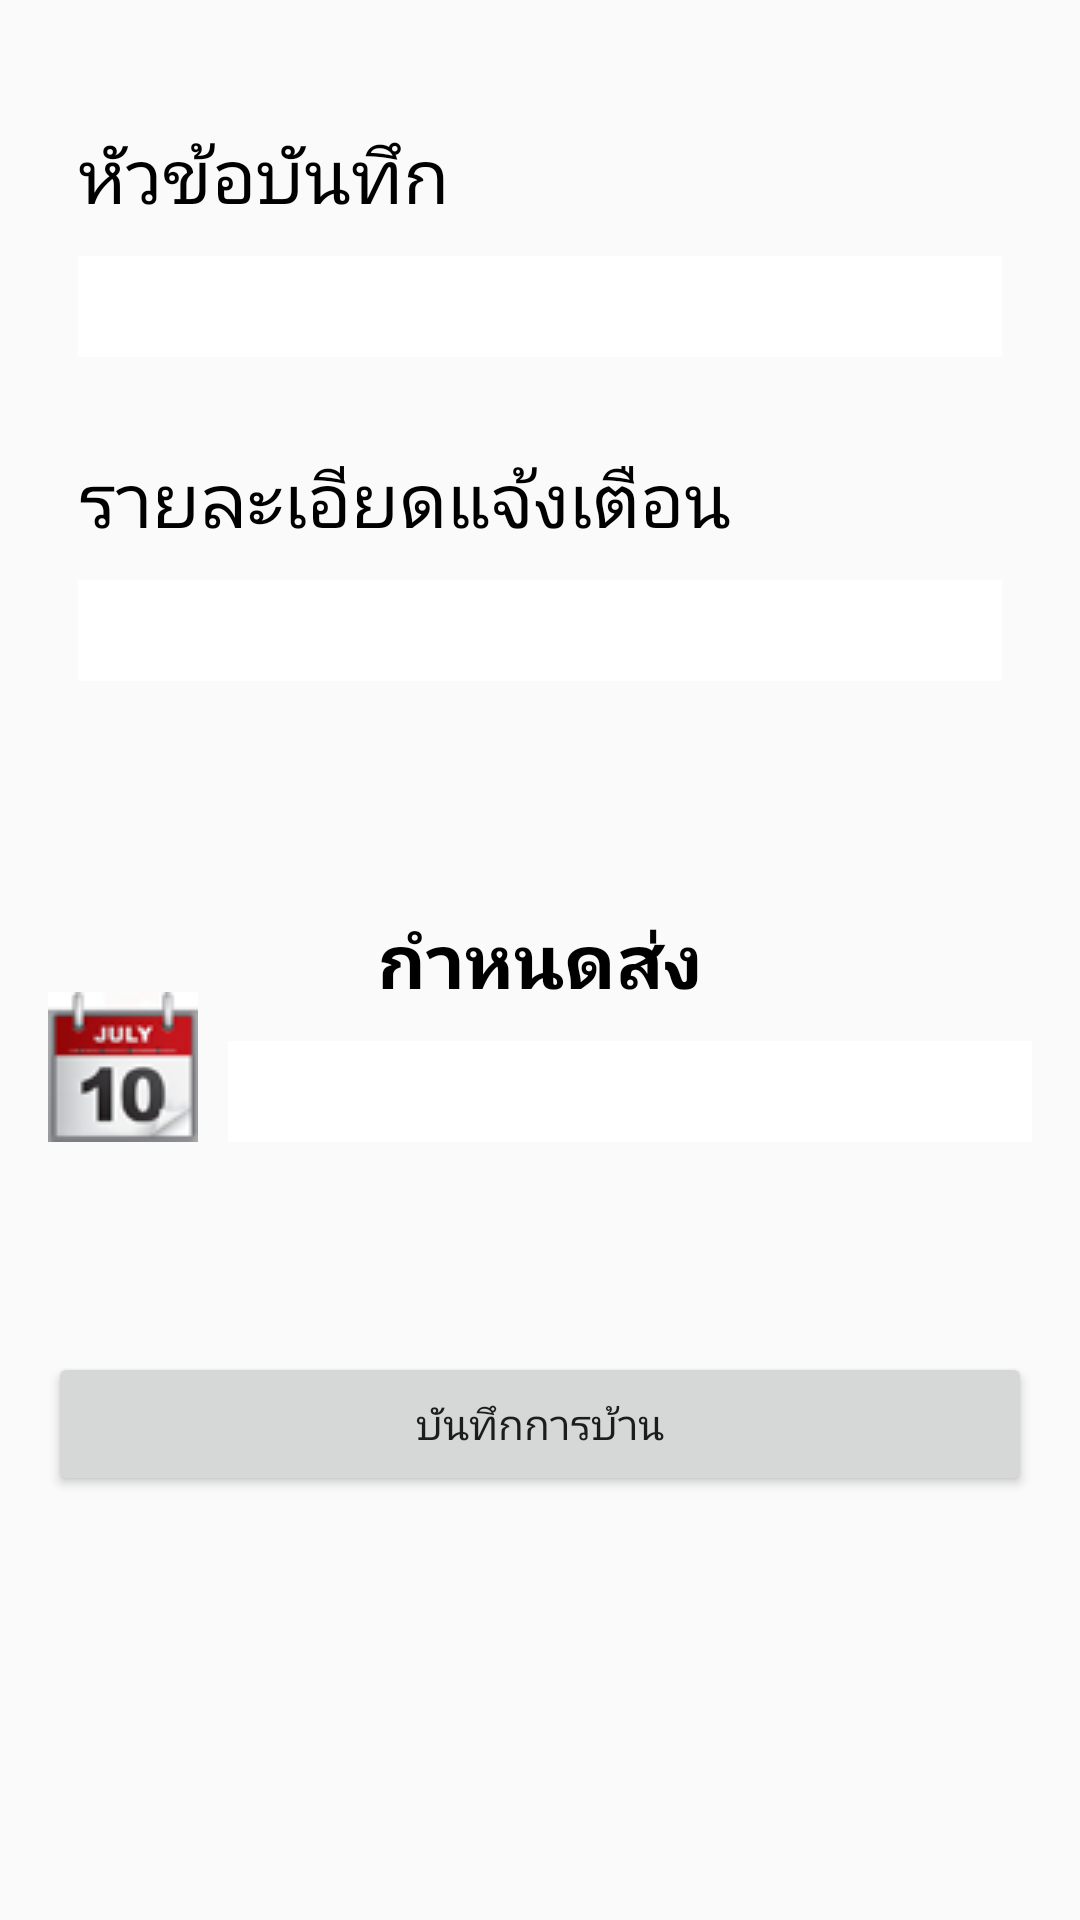

Named icons in this screenshot (1080x1920) and their centers, (x=x, y=y):
calen: (x=123, y=1067)
